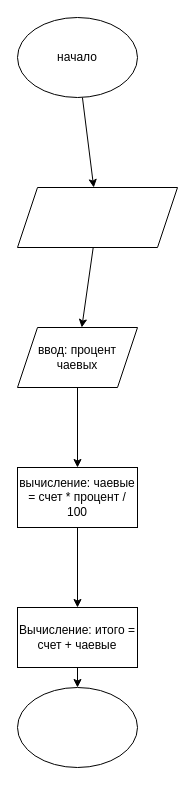
Image size: 195x785. Some labels were removed from this diagram. Each missing label, with the centre of its shape:
ввод: сумма счета: the point at 97,217
конец: the point at 77,727
